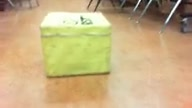cube: (39, 11, 113, 80)
